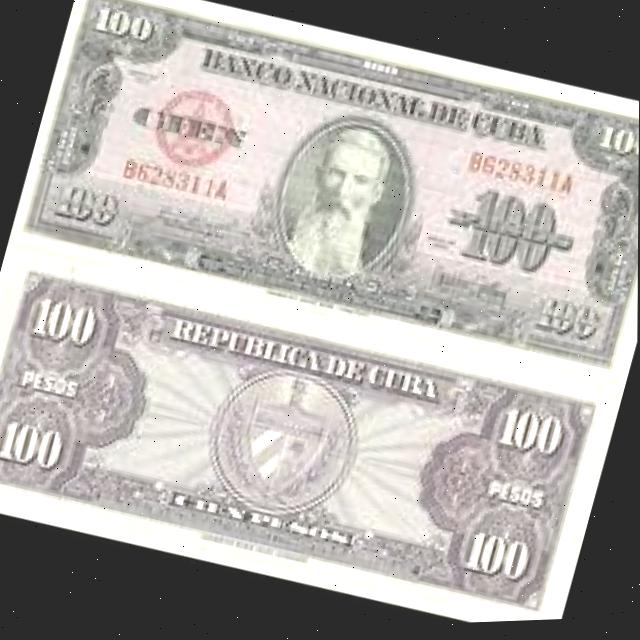banknote: (10, 0, 640, 395), (0, 241, 602, 635)
